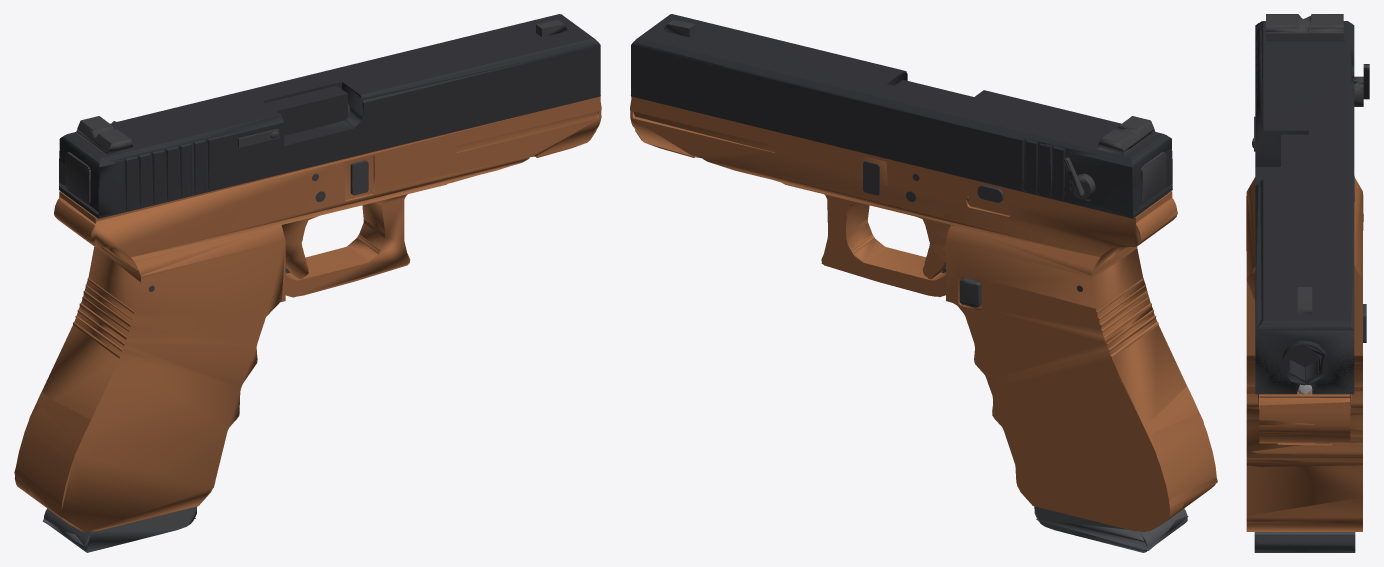
File: glock.glb
The picture shows the model from 3 angles, left to right: view 1: azimuth 30°, elevation 25°; view 2: azimuth 150°, elevation 25°; view 3: azimuth 270°, elevation 25°; orthographic projection. The views are drawn at different scales.
Visible parts, largest first — view 1: longe_base, mundo_ferrolho, mundo_base, longe_ferrolho, perto_base, perto_ferrolho, mundo_carregador, perto_carregador; view 2: mundo_base, longe_base, mundo_ferrolho, perto_ferrolho, longe_ferrolho, perto_base, mundo_carregador, longe_carregador, perto_carregador; view 3: mundo_ferrolho, mundo_base, longe_base, longe_ferrolho, perto_ferrolho, perto_base, perto_carregador, mundo_carregador, mundo_seletor, perto_seletor, longe_carregador.
Part boxes in pixels (x1,y1,x2,y2): longe_base: [14, 85, 601, 532]; mundo_ferrolho: [59, 14, 600, 218]; mundo_base: [14, 95, 601, 531]; longe_ferrolho: [59, 14, 599, 218]; perto_base: [59, 86, 578, 501]; perto_ferrolho: [59, 38, 600, 217]; mundo_carregador: [44, 506, 197, 552]; perto_carregador: [44, 507, 195, 551]; mundo_base: [630, 95, 1216, 531]; longe_base: [630, 80, 1217, 532]; mundo_ferrolho: [635, 14, 1172, 218]; perto_ferrolho: [631, 38, 1172, 218]; longe_ferrolho: [631, 14, 1172, 218]; perto_base: [632, 81, 1171, 526]; mundo_carregador: [1034, 506, 1187, 552]; longe_carregador: [1036, 516, 1188, 550]; perto_carregador: [1035, 509, 1186, 551]; mundo_ferrolho: [1252, 14, 1354, 394]; mundo_base: [1246, 176, 1366, 531]; longe_base: [1246, 134, 1363, 523]; longe_ferrolho: [1252, 14, 1354, 394]; perto_ferrolho: [1252, 14, 1354, 366]; perto_base: [1246, 136, 1365, 408]; perto_carregador: [1256, 532, 1353, 552]; mundo_carregador: [1254, 532, 1355, 552]; mundo_seletor: [1354, 64, 1369, 106]; perto_seletor: [1354, 65, 1369, 105]; longe_carregador: [1254, 550, 1355, 551].
Size of the model in its own units: 8.04 by 5.59 by 1.26.
